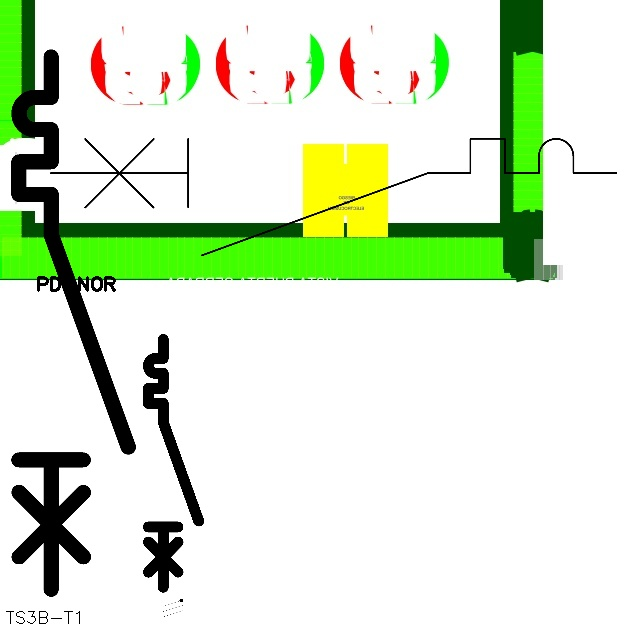interruptor_termomagnetico: (36, 124, 631, 269), (5, 43, 142, 603), (142, 333, 205, 593)
